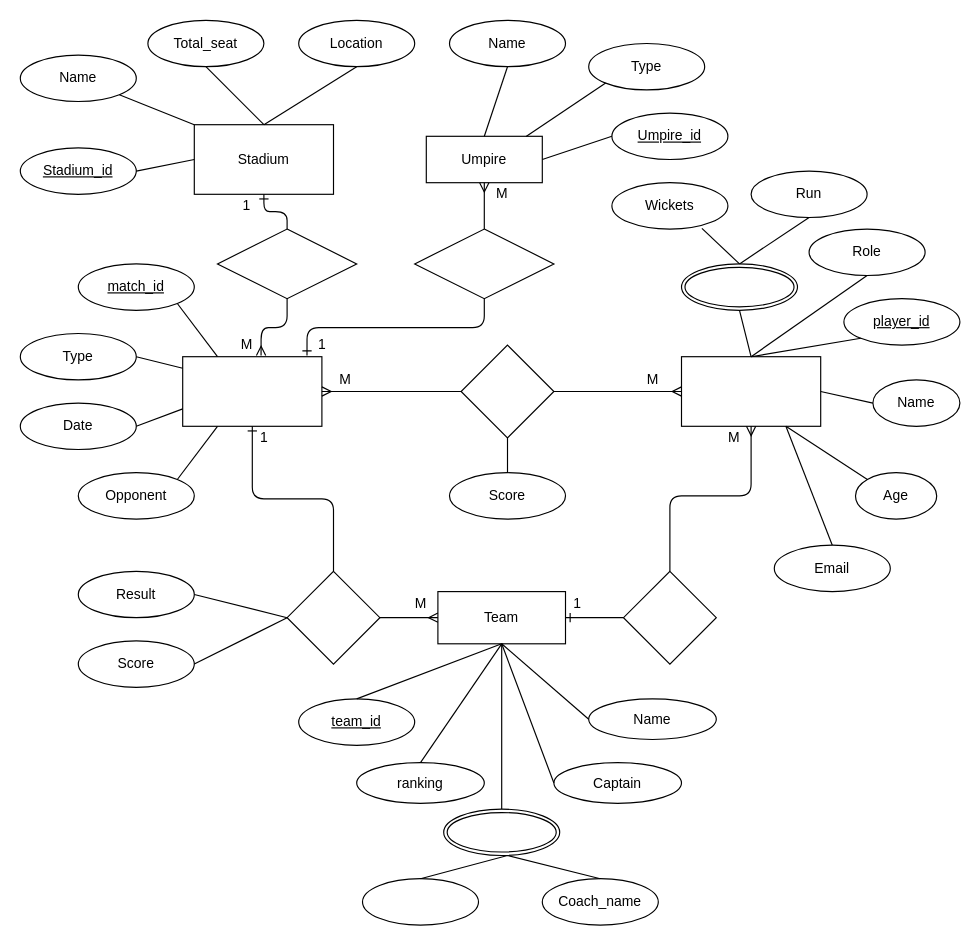
Image size: 980x945. Some labels were removed from this diagram. The centre of each missing label's shape, as x and y in pixels:
Coaach: (501,831)
Coach_id: (419,901)
Has: (484,263)
Match: (252,391)
Played: (507,391)
Played_at: (286,263)
Player: (750,391)
Player_of: (669,617)
Season_score: (739,286)
Team_played: (333,617)
